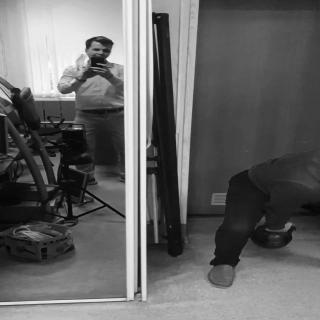kettlebell: (250, 222, 298, 251)
